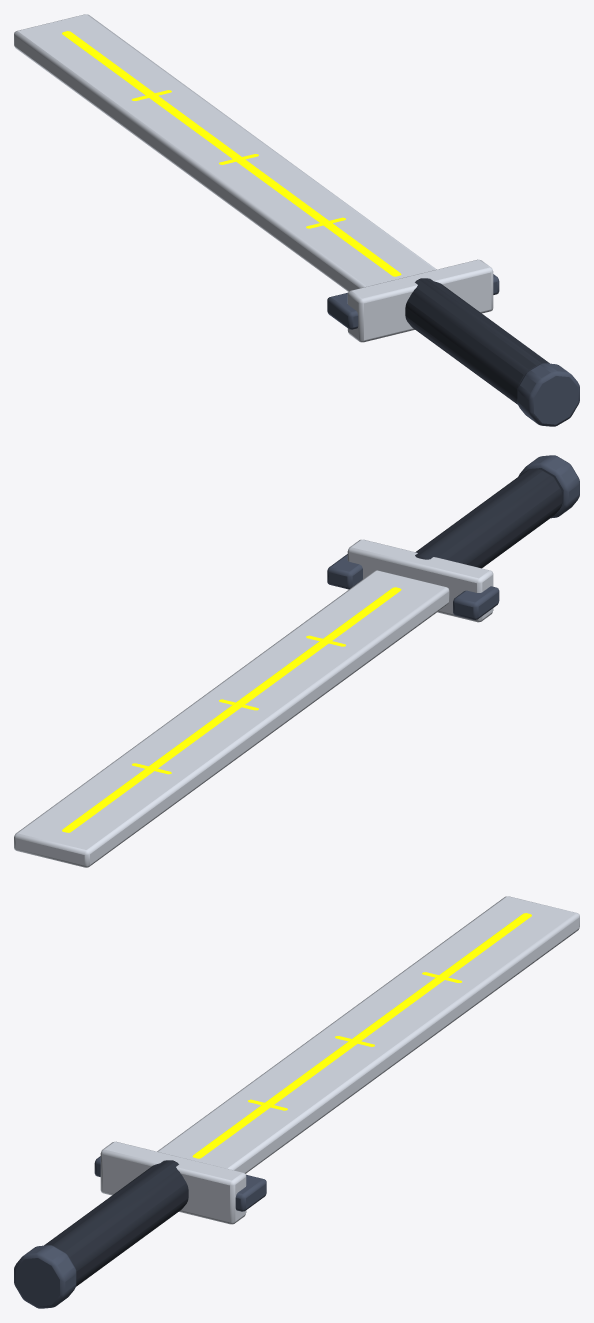
Rendered from wpn_7_circuit_blade.glb.
The picture shows the model from 3 angles, top to bottom: view 1: azimuth 30°, elevation 25°; view 2: azimuth 150°, elevation 25°; view 3: azimuth 330°, elevation 25°; orthographic projection.
Visible parts, largest first — view 1: wpn_7_circuit_blade; view 2: wpn_7_circuit_blade; view 3: wpn_7_circuit_blade.
Boxes of the visible parts, x1,y1,x2,y2 form: wpn_7_circuit_blade: (14,14,579,426); wpn_7_circuit_blade: (14,455,579,867); wpn_7_circuit_blade: (14,896,579,1308).
Bounding box in the file's own units: 0.18 × 0.0626 × 1.04.
